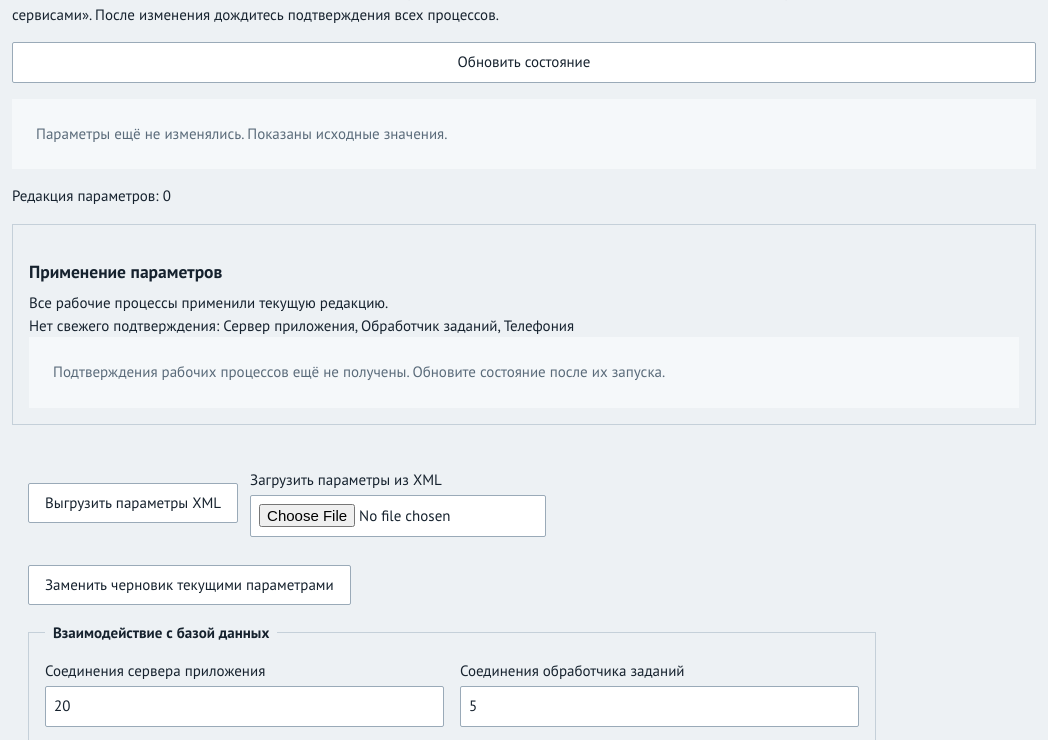
Test: keeps edits on polling failure and never displays a cached success as confirmed
The width and height of the screenshot is (1048, 740).
expect the text "Все рабочие процессы применили текущую редакцию." is shown: met, box [29,293,388,312]
Replace the text in the number field labelled "Соединения сервера приложения" with "15" at (244, 707), box [45,686,444,727]
(page scrolled)
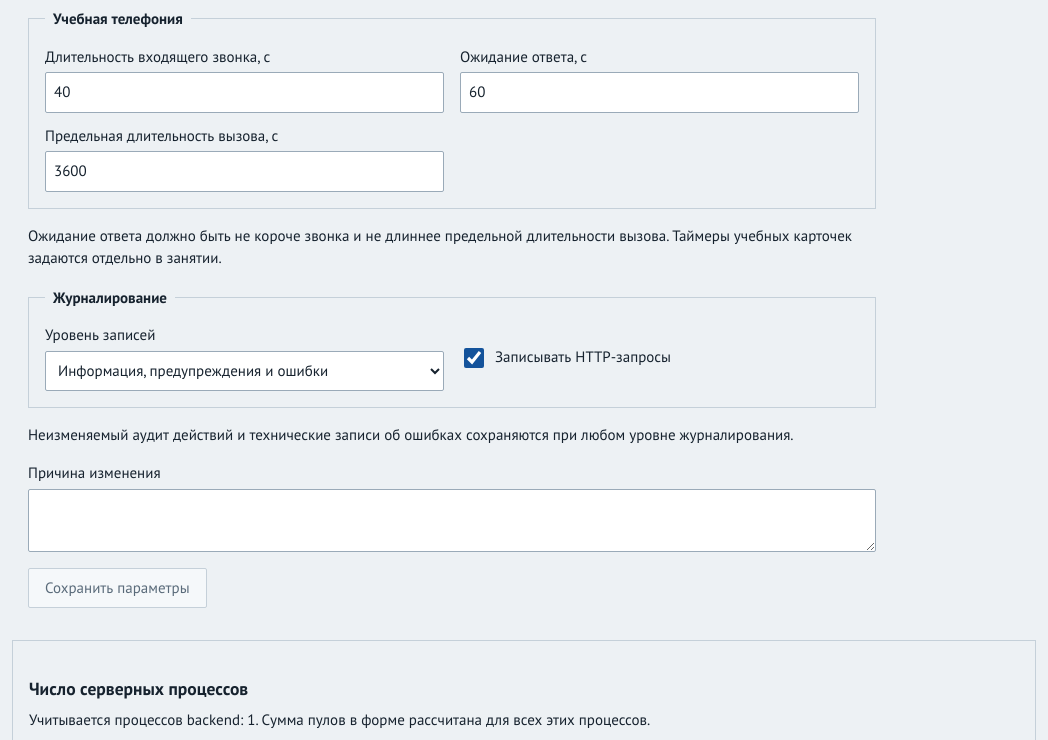
Type "Сохраняемый черновик" into the text box labelled "Причина изменения".
click(452, 520); type("Сохраняемый черновик")  # box [28,489,876,552]
(page scrolled)
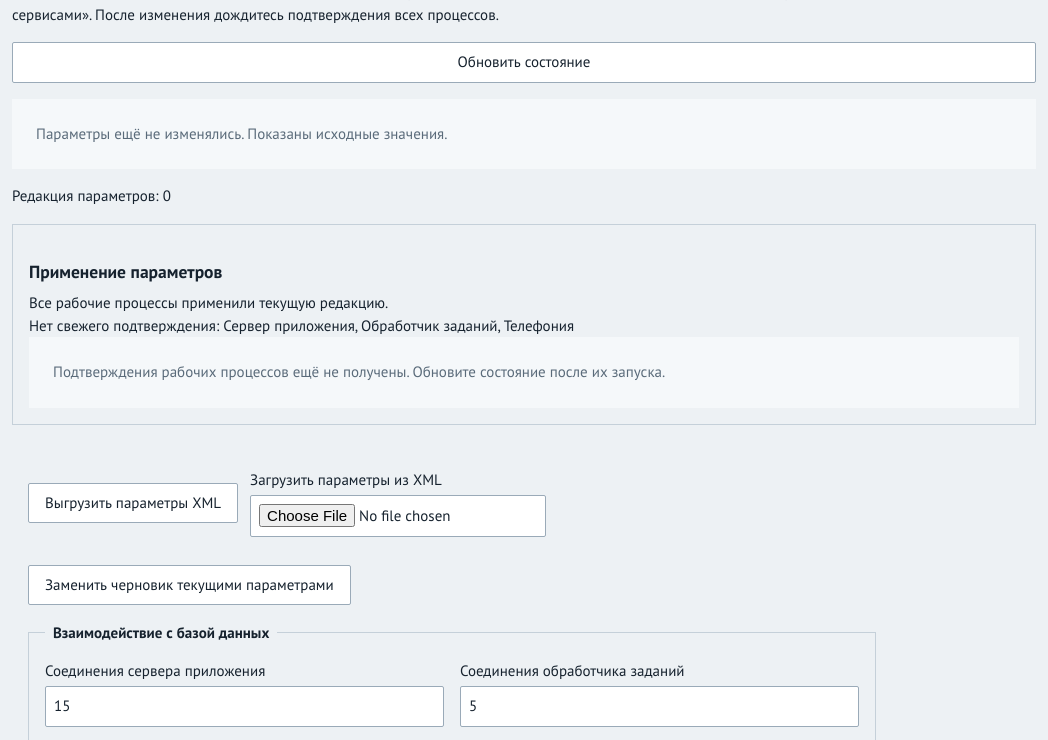
Click the button "Обновить состояние".
click(524, 62)  # box [12,42,1036,82]
(page scrolled)
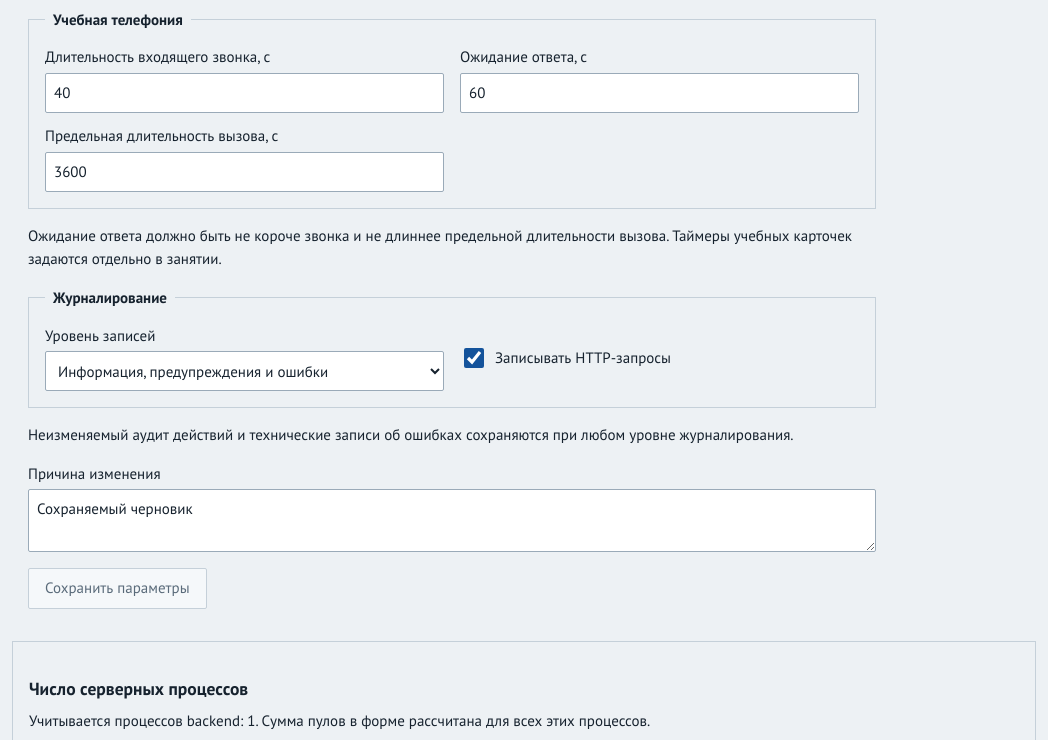
expect the button "Сохранить параметры" is disabled: met, box [28,568,207,609]
expect the text "Все рабочие процессы применили текущую редакцию." is gone: met
